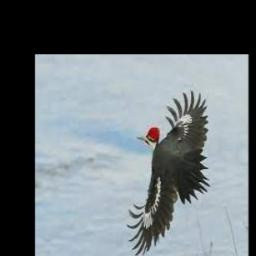Woodpecker: (126, 89, 210, 255)
